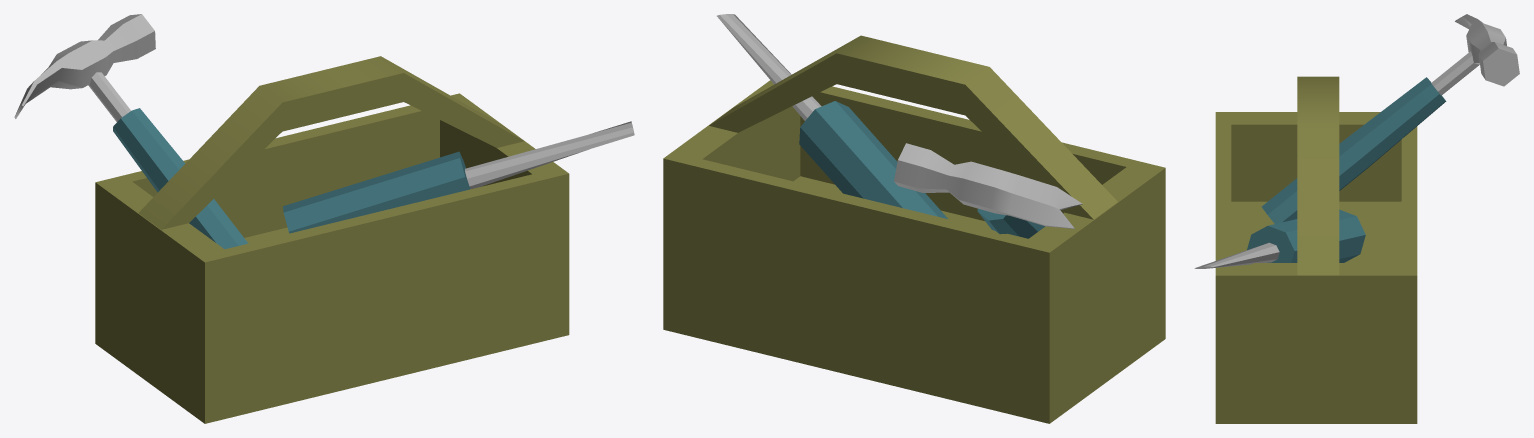
The model's file is Toolkit.fbx.
3 views of the same model, side by side, from view 1: azimuth 30°, elevation 25°; view 2: azimuth 150°, elevation 25°; view 3: azimuth 270°, elevation 25° (orthographic). The views are drawn at different scales.
Visible parts, largest first — view 1: Toolkit; view 2: Toolkit; view 3: Toolkit.
Part boxes in pixels (x1,y1,x2,y2): Toolkit: [14, 14, 634, 423]; Toolkit: [663, 14, 1165, 423]; Toolkit: [1194, 14, 1519, 423].
Size of the model in its own units: 13.26 by 7.3 by 8.52.
